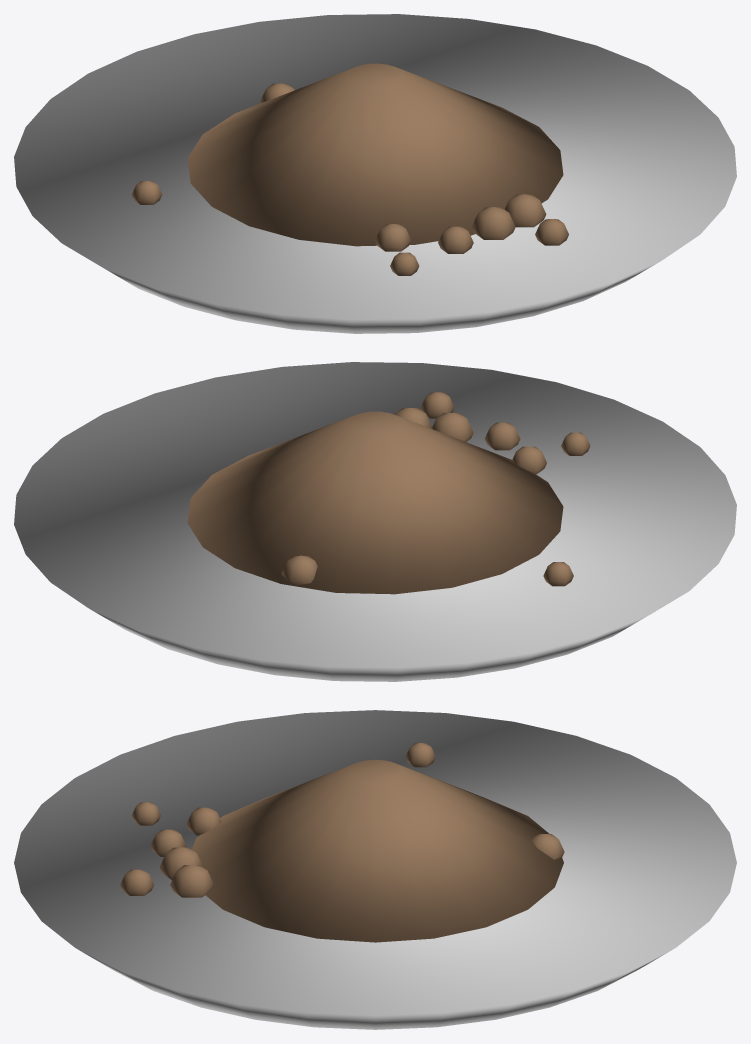
Rendered from sample_coffee.glb.
3 renders of one model, top to bottom at view 1: azimuth 30°, elevation 25°; view 2: azimuth 150°, elevation 25°; view 3: azimuth 270°, elevation 25°, orthographic.
Parts seen in each view (by area): view 1: saucer, coffee, coffee_grain3, coffee_grain6, coffee_grain5, coffee_grain4, coffee_grain0, coffee_grain2, coffee_grain7; view 2: saucer, coffee, coffee_grain1, coffee_grain3, coffee_grain4, coffee_grain5, coffee_grain0, coffee_grain2, coffee_grain7; view 3: saucer, coffee, coffee_grain6, coffee_grain3, coffee_grain0, coffee_grain5, coffee_grain4, coffee_grain2, coffee_grain1, coffee_grain7.
Boxes of the visible parts, bbox=[...] form: saucer: bbox=[14, 14, 736, 333]; coffee: bbox=[187, 63, 563, 246]; coffee_grain3: bbox=[471, 207, 515, 239]; coffee_grain6: bbox=[504, 194, 546, 227]; coffee_grain5: bbox=[375, 224, 411, 251]; coffee_grain4: bbox=[438, 226, 473, 253]; coffee_grain0: bbox=[535, 219, 568, 245]; coffee_grain2: bbox=[132, 181, 162, 204]; coffee_grain7: bbox=[390, 252, 419, 275]; saucer: bbox=[14, 362, 736, 681]; coffee: bbox=[187, 411, 563, 594]; coffee_grain1: bbox=[281, 555, 317, 585]; coffee_grain3: bbox=[431, 413, 473, 441]; coffee_grain4: bbox=[484, 422, 520, 450]; coffee_grain5: bbox=[512, 446, 546, 474]; coffee_grain0: bbox=[420, 392, 454, 418]; coffee_grain2: bbox=[543, 562, 573, 586]; coffee_grain7: bbox=[561, 432, 590, 455]; saucer: bbox=[14, 710, 736, 1029]; coffee: bbox=[192, 759, 563, 942]; coffee_grain6: bbox=[170, 865, 213, 897]; coffee_grain3: bbox=[159, 847, 202, 879]; coffee_grain0: bbox=[120, 869, 153, 895]; coffee_grain5: bbox=[186, 807, 221, 835]; coffee_grain4: bbox=[150, 829, 186, 856]; coffee_grain2: bbox=[405, 743, 435, 767]; coffee_grain1: bbox=[530, 834, 564, 859]; coffee_grain7: bbox=[132, 802, 160, 825].
Size of the model in its own units: 0.115 by 0.022 by 0.115.
